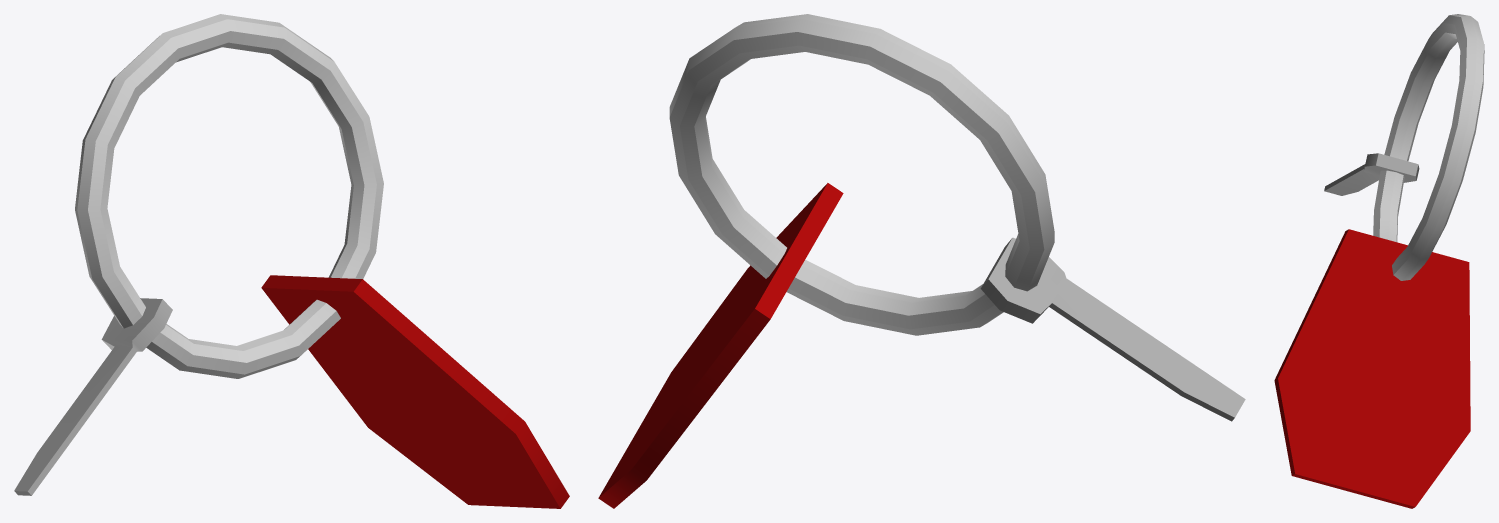
The model's file is Key.fbx.
The picture shows the model from 3 angles, left to right: view 1: azimuth 30°, elevation 25°; view 2: azimuth 150°, elevation 25°; view 3: azimuth 270°, elevation 25°; orthographic projection. The views are drawn at different scales.
Parts seen in each view (by area): view 1: pCube132; view 2: pCube132; view 3: pCube132.
Boxes of the visible parts, x1,y1,x2,y2 form: pCube132: [14, 14, 569, 508]; pCube132: [598, 14, 1245, 508]; pCube132: [1274, 14, 1484, 508].
Bounding box in the file's own units: 0.364 × 0.3383 × 0.1638.
